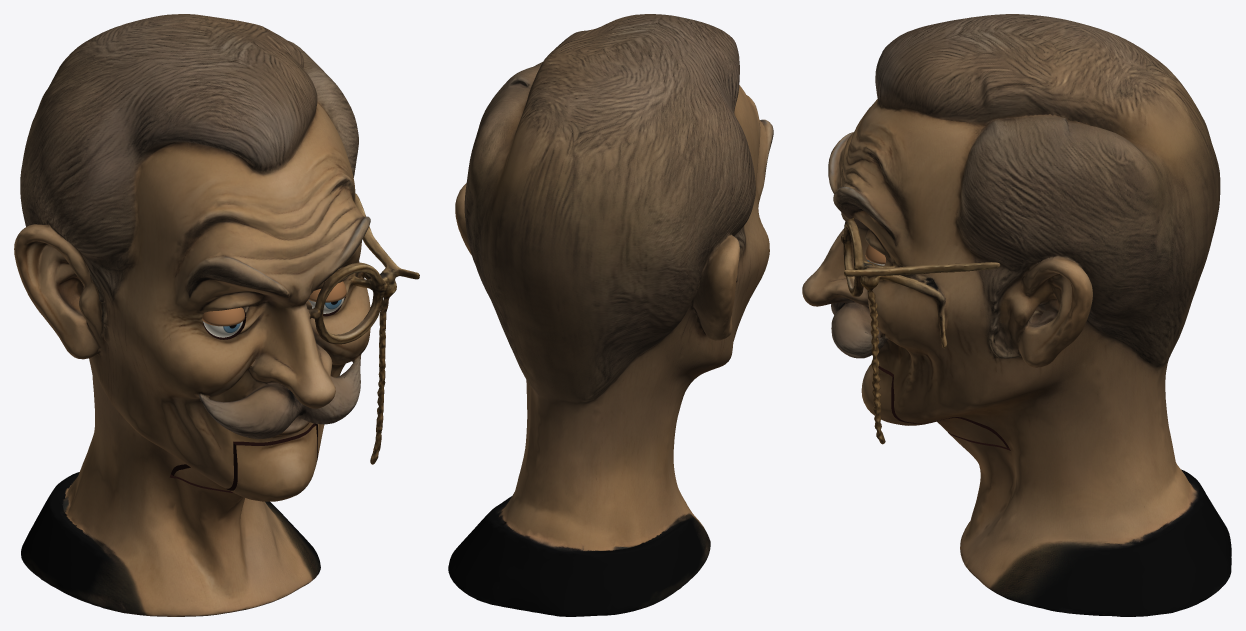
3 renders of one model, left to right at view 1: azimuth 30°, elevation 25°; view 2: azimuth 150°, elevation 25°; view 3: azimuth 270°, elevation 25°, orthographic. The views are drawn at different scales.
Parts seen in each view (by area): view 1: Head, Jaw, Lid_R; view 2: Head; view 3: Head, Jaw.
Boxes of the visible parts, left/top/right/bottom form: Head: left=14, top=14, right=419, bottom=616; Jaw: left=171, top=423, right=316, bottom=501; Lid_R: left=202, top=307, right=245, bottom=326; Head: left=448, top=14, right=773, bottom=616; Head: left=802, top=14, right=1231, bottom=616; Jaw: left=861, top=364, right=1008, bottom=447.
Bounding box in the file's own units: 1.68 × 2.88 × 2.13.
Materials: 5 (2 with a texture image).
